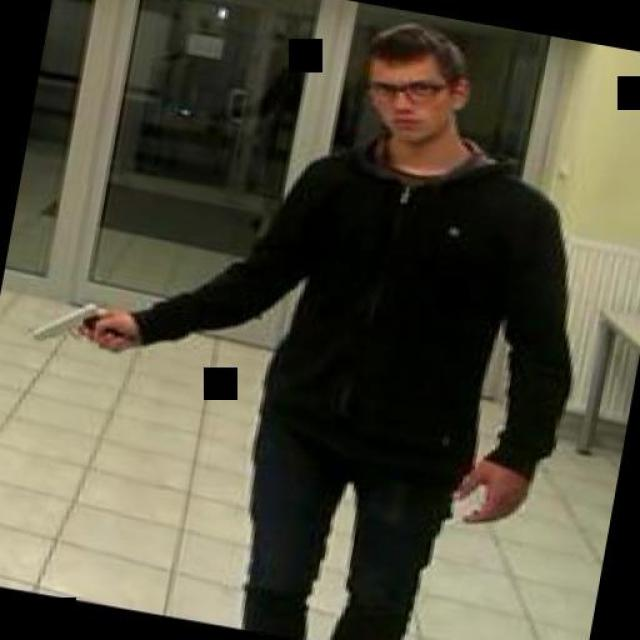gun: (24, 286, 120, 352)
